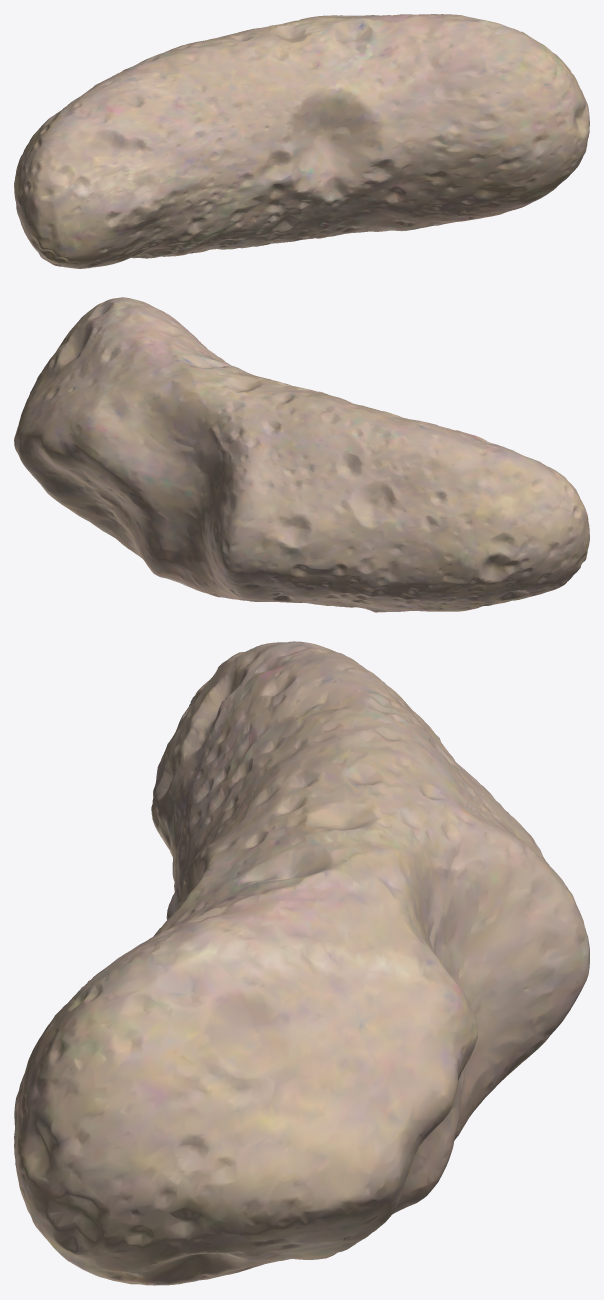
Rendered from eros_shape_4k.glb.
3 renders of one model, top to bottom at view 1: azimuth 30°, elevation 25°; view 2: azimuth 150°, elevation 25°; view 3: azimuth 270°, elevation 25°, orthographic. The views are drawn at different scales.
Visible parts, largest first — view 1: eros; view 2: eros; view 3: eros.
Boxes of the visible parts, box(x1,y1,x2,y2) form: eros: box(14, 14, 589, 268); eros: box(14, 297, 589, 612); eros: box(14, 641, 589, 1285).
Bounding box in the file's own units: 32.66 × 11.96 × 16.89.
